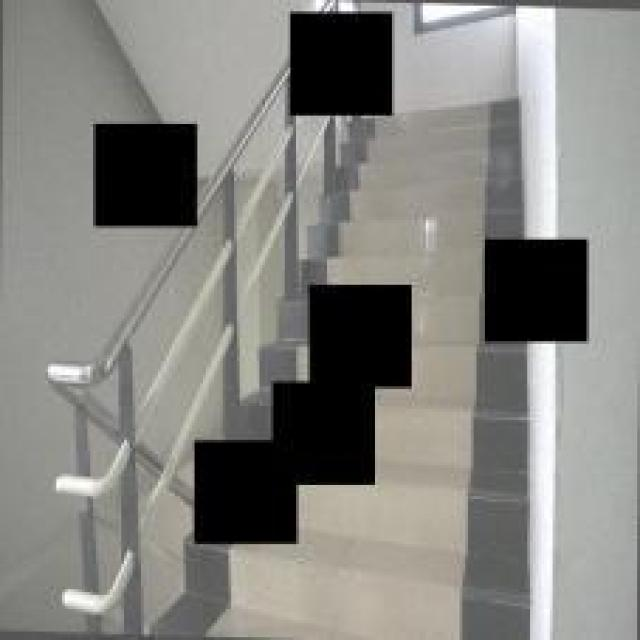upstair: (328, 120, 528, 241)
